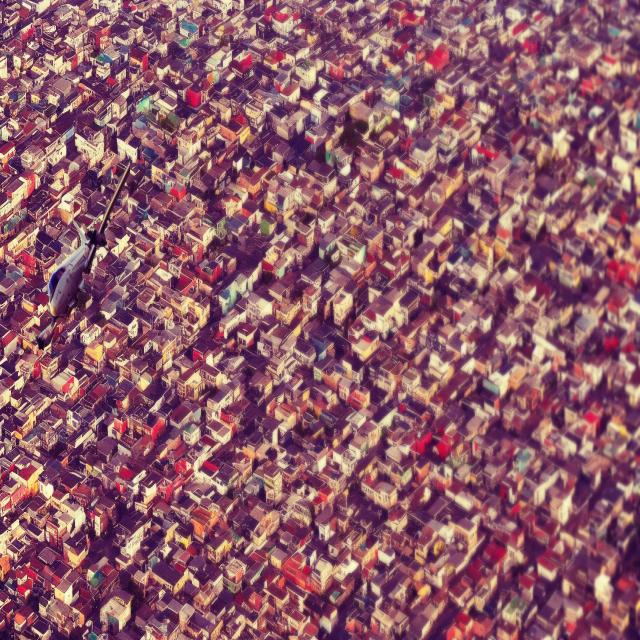airplane: (46, 158, 131, 320)
